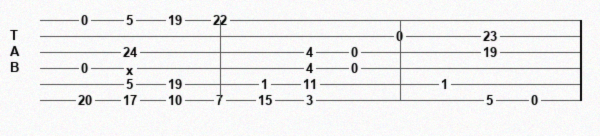0: (81, 13, 92, 27), (81, 61, 92, 75), (351, 61, 362, 75), (351, 45, 362, 59), (396, 29, 407, 43), (531, 93, 542, 107)
1: (261, 77, 272, 91), (441, 77, 452, 91)
10: (168, 93, 186, 107)
11: (303, 77, 321, 91)
15: (258, 93, 276, 107)
17: (123, 93, 141, 107)
19: (168, 77, 186, 91), (168, 13, 186, 27), (483, 45, 501, 59)
20: (78, 93, 96, 107)
22: (213, 13, 231, 27)
23: (483, 29, 501, 43)
24: (123, 45, 141, 59)
3: (306, 93, 317, 107)
4: (306, 45, 317, 59), (306, 61, 317, 75)
5: (126, 77, 137, 91), (126, 13, 137, 27), (486, 93, 497, 107)
7: (216, 93, 227, 107)
x: (126, 63, 138, 74)
